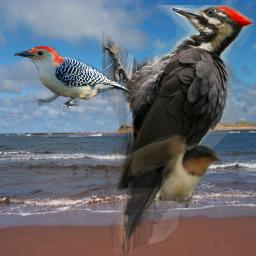Swallow: (128, 134, 221, 208)
Woodpecker: (102, 5, 254, 255), (14, 46, 130, 109)
